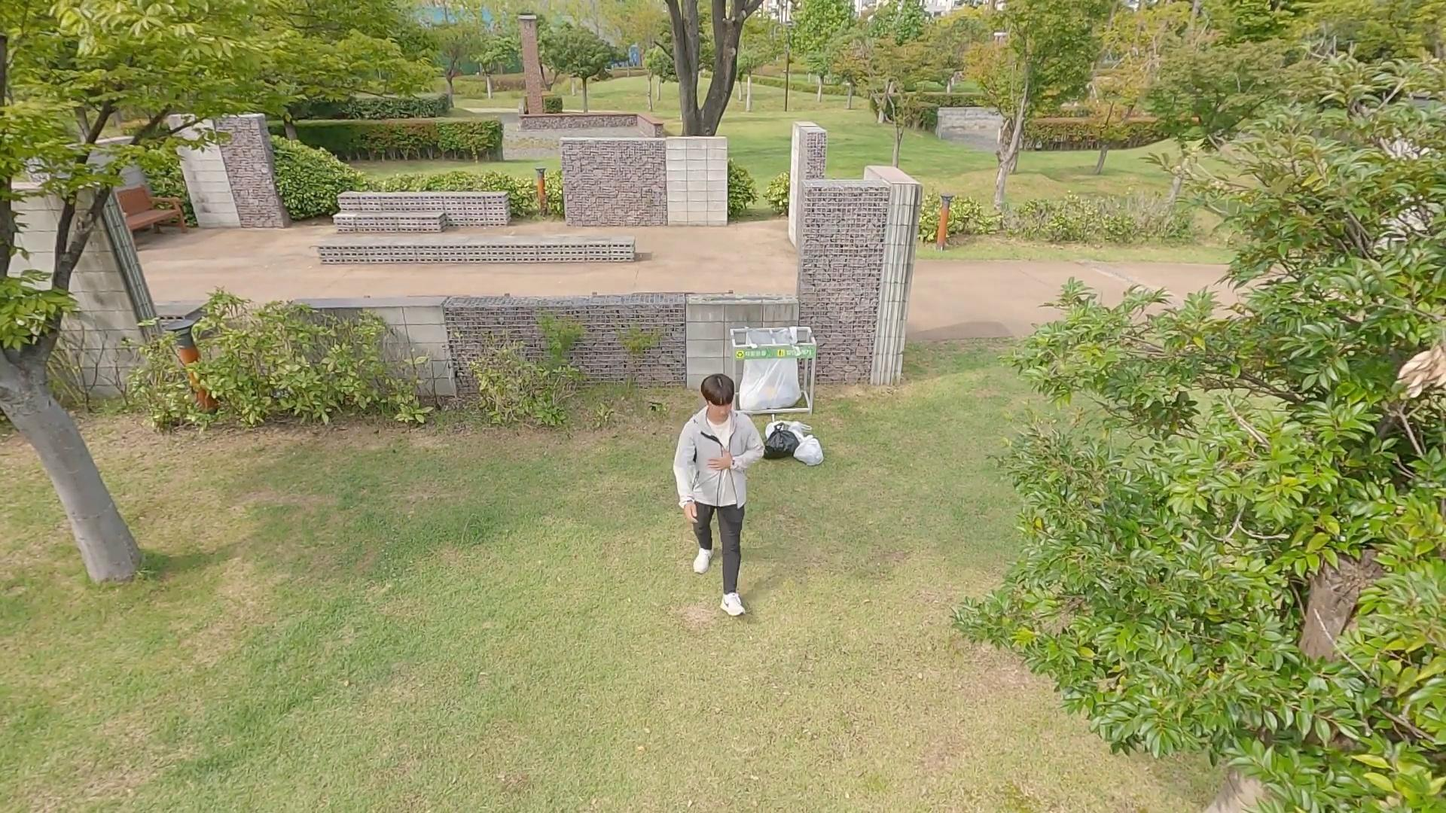person: (674, 372, 765, 617)
trash: (764, 418, 812, 448), (765, 423, 801, 462), (793, 433, 825, 468)
